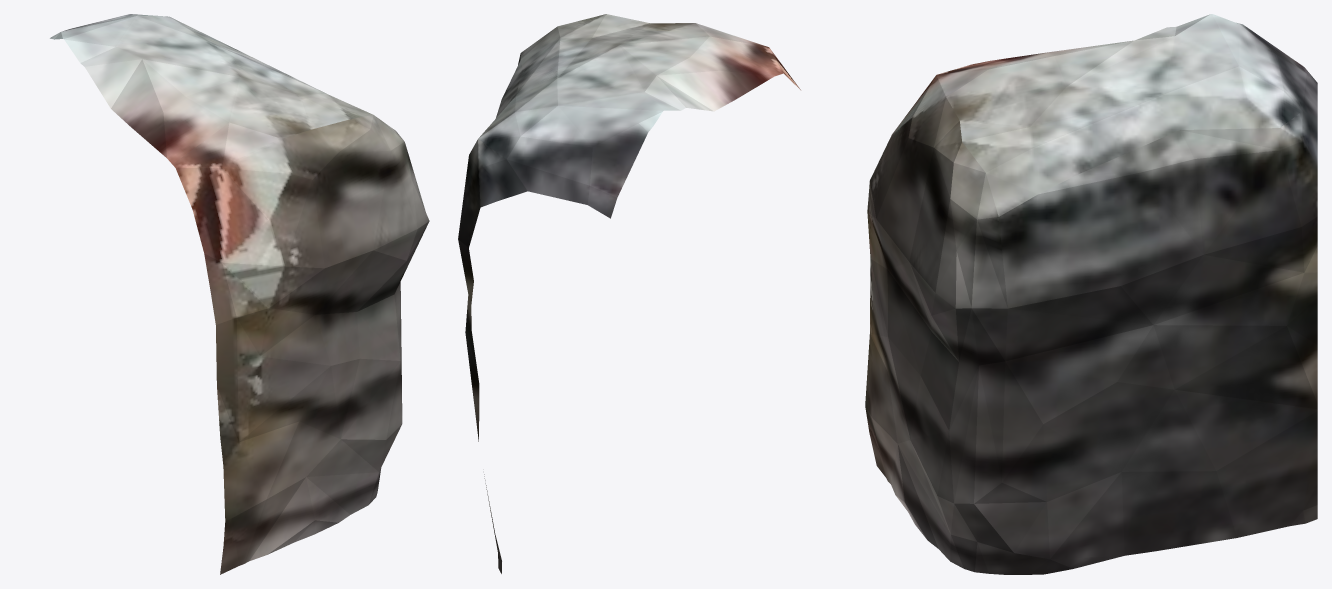
3 views of the same model, side by side, from view 1: azimuth 30°, elevation 25°; view 2: azimuth 150°, elevation 25°; view 3: azimuth 270°, elevation 25° (orthographic). The views are drawn at different scales.
Size of the model in its own units: 0.3277 by 0.5274 by 0.4788.
2 materials, 2 textured.
